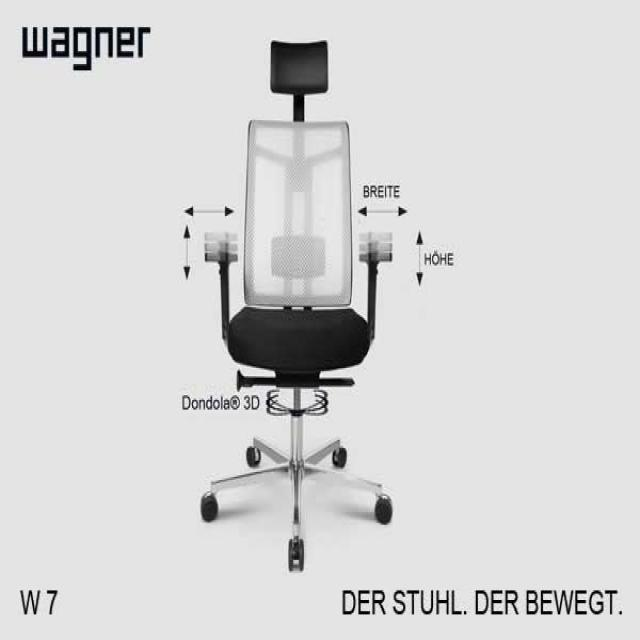chair: (200, 37, 393, 571)
